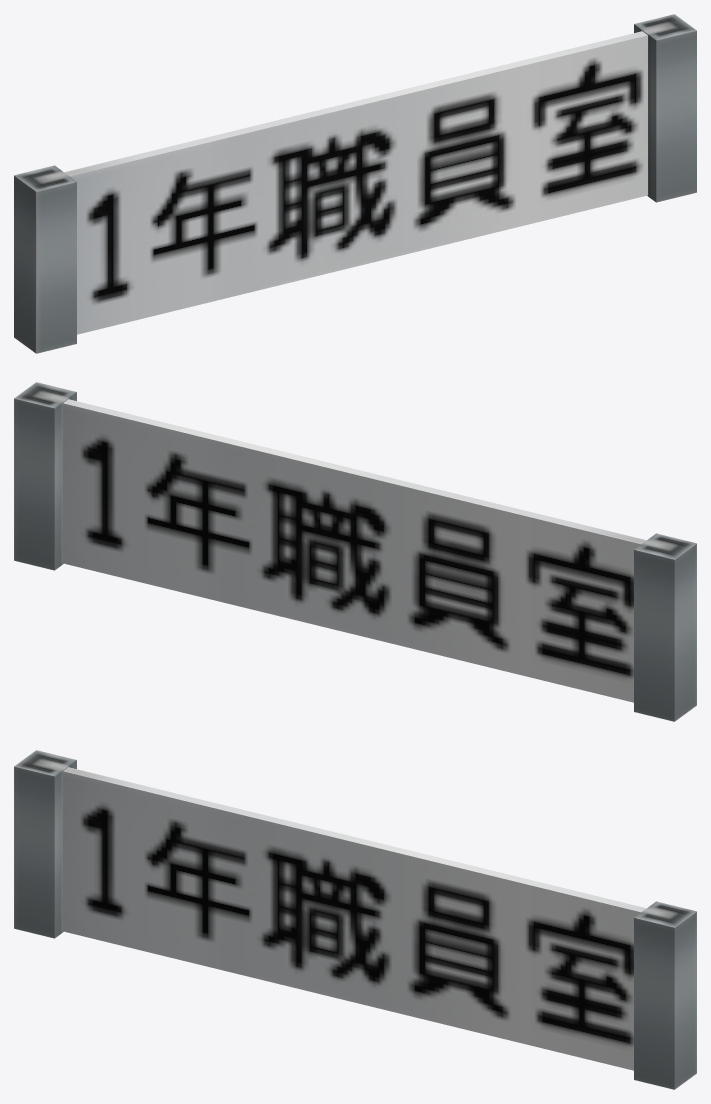
File: SHW_NamePlate_01_01_Teachers_room02.fbx
3 views of the same model, one above another, from view 1: azimuth 30°, elevation 25°; view 2: azimuth 150°, elevation 25°; view 3: azimuth 330°, elevation 25° (orthographic).
Parts seen in each view (by area): view 1: shw_nameplate_01_01_teachers_room02; view 2: shw_nameplate_01_01_teachers_room02; view 3: shw_nameplate_01_01_teachers_room02.
Part boxes in pixels (<box>): shw_nameplate_01_01_teachers_room02: <box>14,14,696,353</box>; shw_nameplate_01_01_teachers_room02: <box>14,382,696,721</box>; shw_nameplate_01_01_teachers_room02: <box>14,750,696,1089</box>.
Bounding box in the file's own units: 34.1 × 8 × 2.
